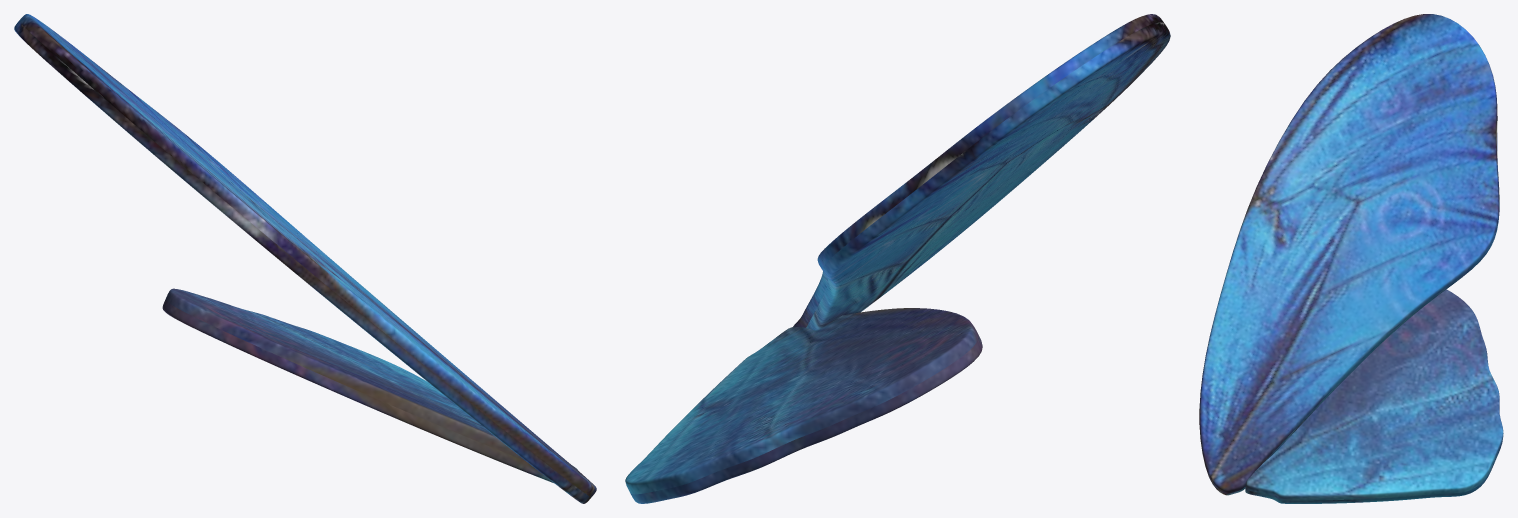
File: AlasDer.obj
The picture shows the model from 3 angles, left to right: view 1: azimuth 30°, elevation 25°; view 2: azimuth 150°, elevation 25°; view 3: azimuth 270°, elevation 25°; orthographic projection. The views are drawn at different scales.
Visible parts, largest first — view 1: polySurface18; view 2: polySurface18; view 3: polySurface18.
Boxes of the visible parts, x1=… form: polySurface18: x1=14, y1=14, x2=596, y2=503; polySurface18: x1=625, y1=14, x2=1170, y2=503; polySurface18: x1=1199, y1=14, x2=1503, y2=503.
Bounding box in the file's own units: 0.5501 × 0.5784 × 0.4614.
Materials: 1 (1 with a texture image).
